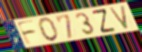3: (76, 12, 96, 36)
7: (54, 13, 73, 40)
F: (16, 19, 39, 47)
O: (37, 16, 60, 42)
V: (108, 5, 131, 31)
Z: (91, 7, 118, 34)
